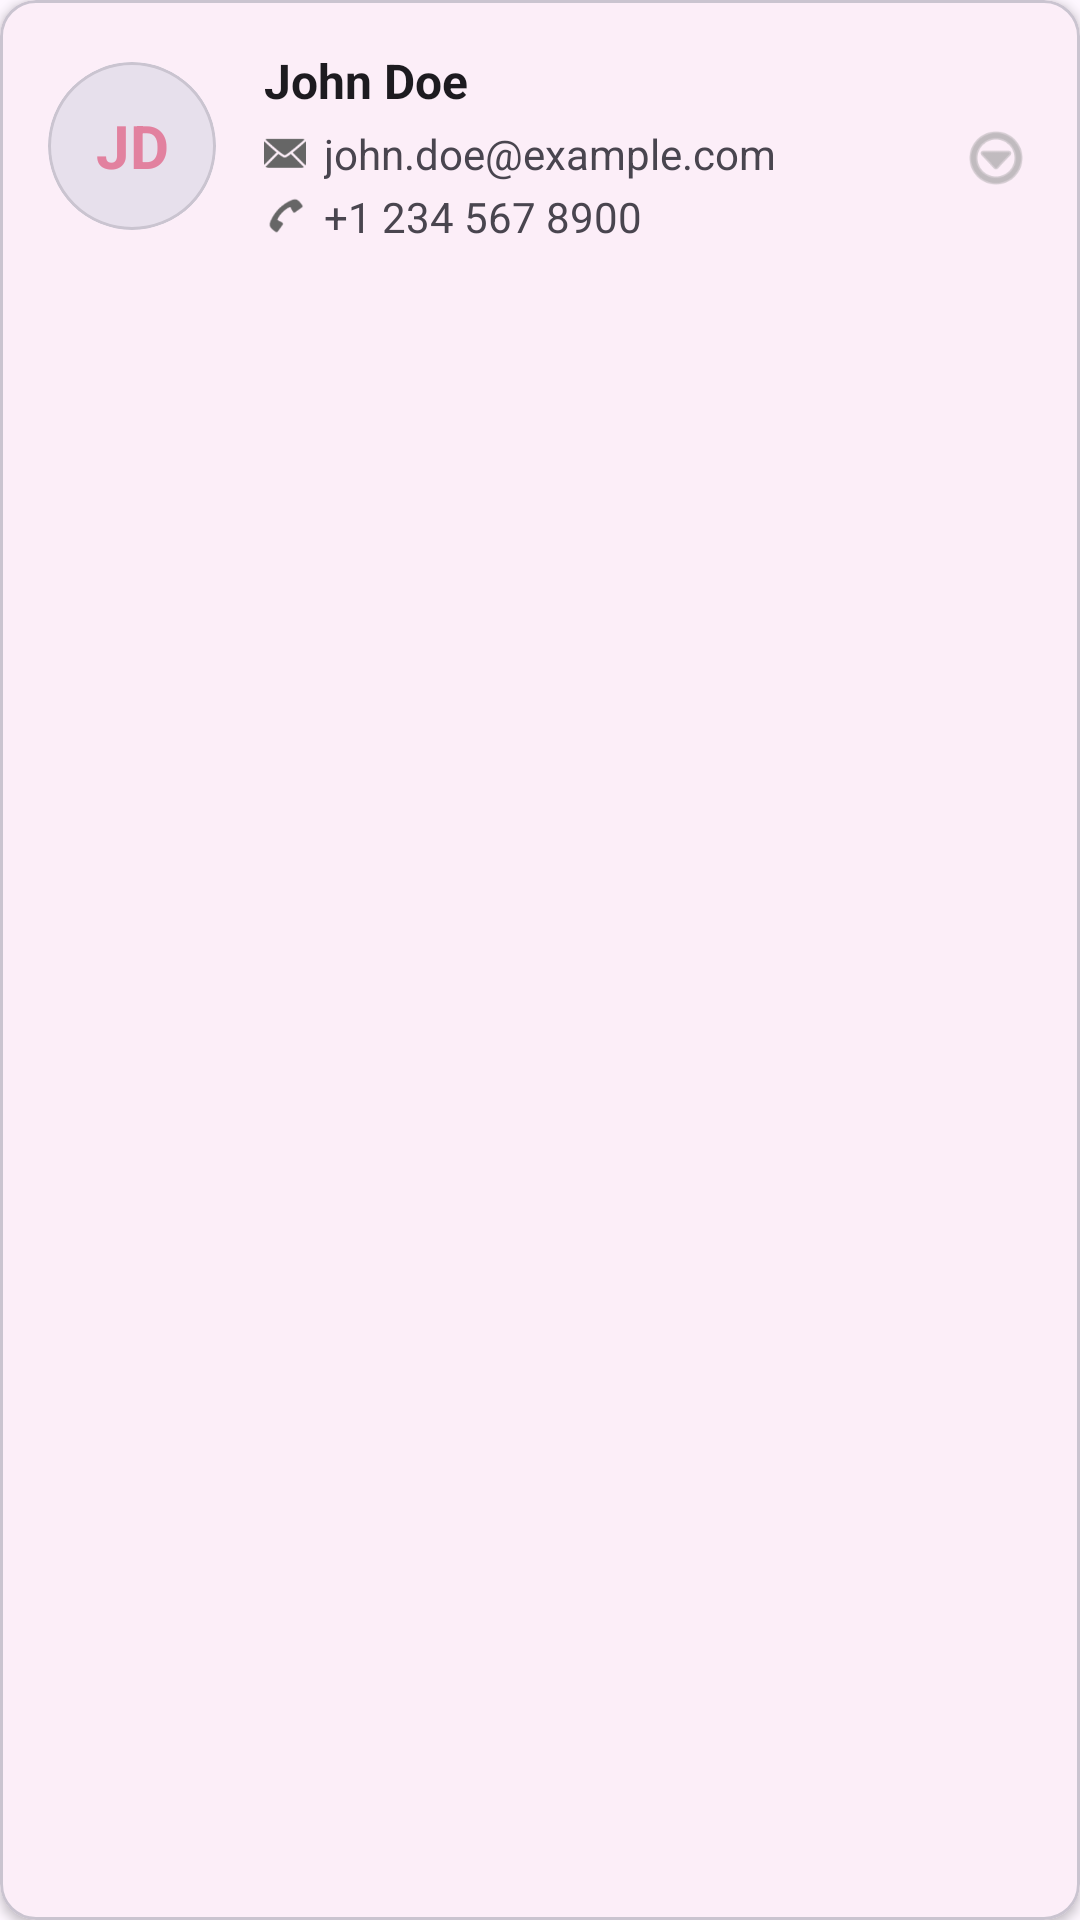

Where icons sit on this 1080 x 1920 app screen, as [x1,y1,x2,y2]:
email: [264,139,306,168]
more: [970,132,1022,184]
sym action call: [269,199,303,233]
